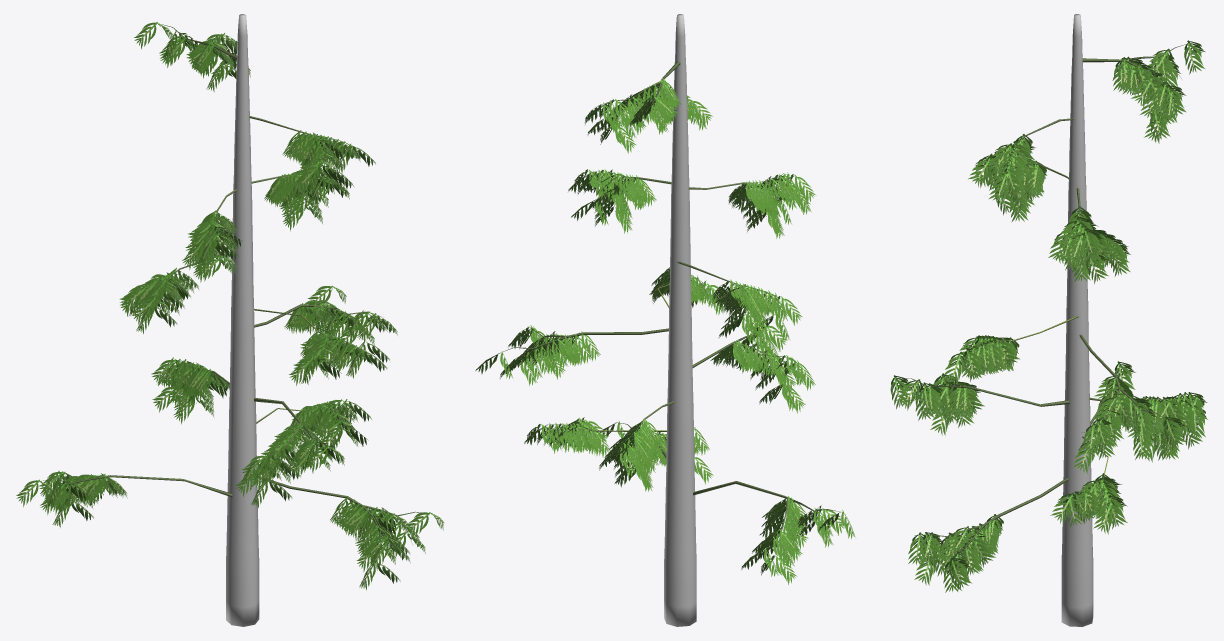
Rendered from Model_Guadua_04.fbx.
The picture shows the model from 3 angles, left to right: view 1: azimuth 30°, elevation 25°; view 2: azimuth 150°, elevation 25°; view 3: azimuth 270°, elevation 25°; orthographic projection.
Parts seen in each view (by area): view 1: GLD01C.023, tree.050; view 2: GLD01C.023, tree.050; view 3: GLD01C.023, tree.050.
Boxes of the visible parts, box(x1,y1,x2,y2) form: GLD01C.023: box(16, 22, 444, 590); tree.050: box(41, 14, 432, 626); GLD01C.023: box(475, 78, 855, 584); tree.050: box(500, 14, 841, 626); GLD01C.023: box(890, 40, 1207, 592); tree.050: box(893, 14, 1193, 626).
Bounding box in the file's own units: 12.54 × 20 × 9.69.
